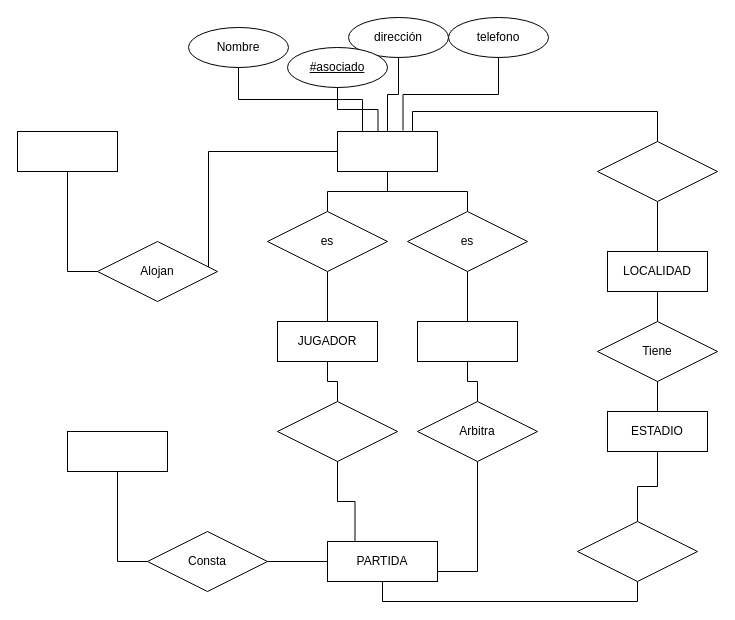
Image size: 735x620. Some labels were removed from this diagram. The shapes that lost their labels are listed below. From the top down, each one's centre as x and y in pixels, then its label:
At point 67,151: "HOTEL".
At point 387,151: "PARTICIPANTE".
At point 657,171: "Envian".
At point 467,341: "ARBITRO".
At point 117,451: "PUNTO".
At point 337,431: "Juega".
At point 637,551: "Realiza".
